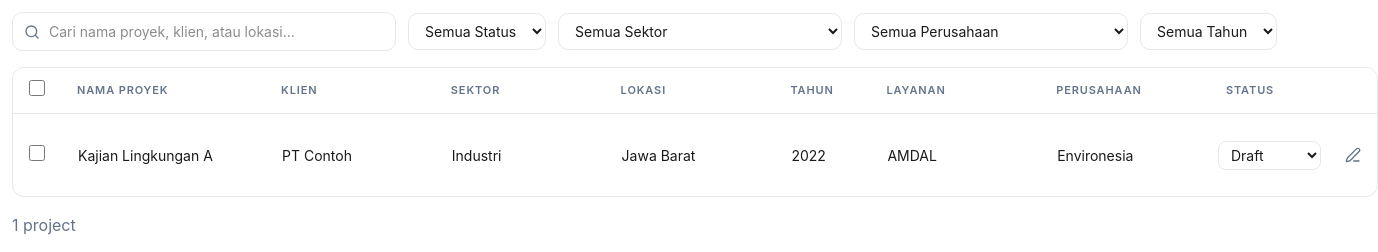
Test: ProjectsTableEditor — inline editing › never saves an empty title — reverts to the last known value instead
Clear the field named "Nama proyek: Kajian Lingkungan A" at x=163, y=155, box [69, 140, 257, 170]
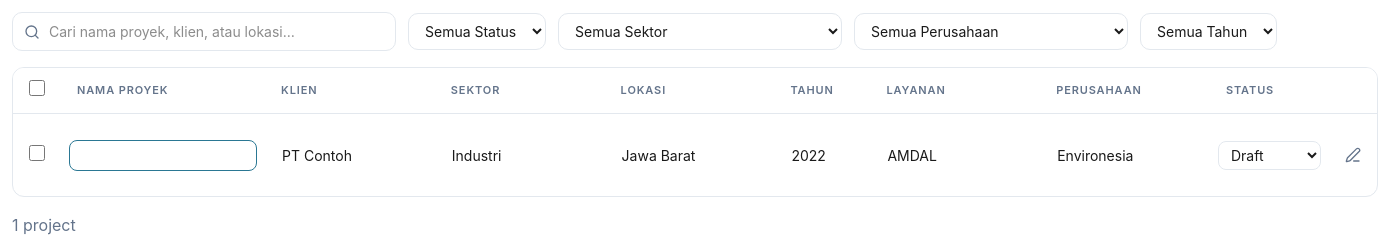
Press Tab
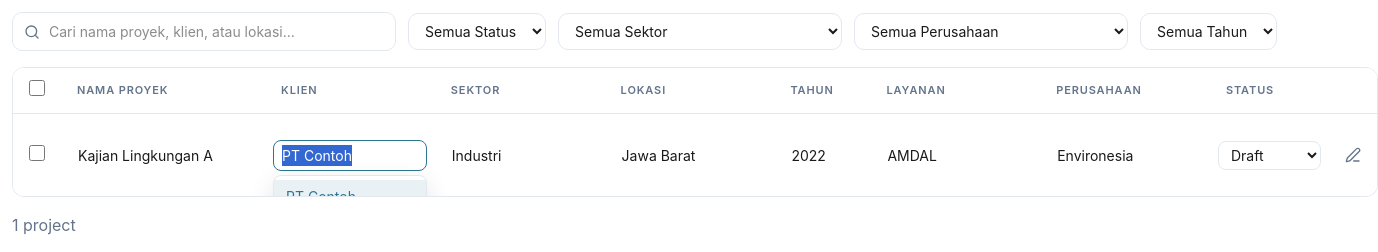
Now the field named "Nama proyek: Kajian Lingkungan A" holds "Kajian Lingkungan A", box [69, 140, 257, 170]
